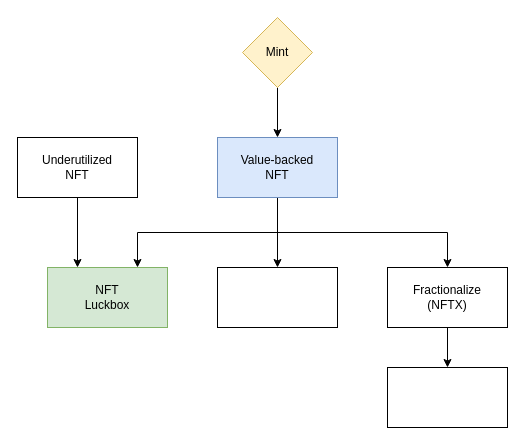
Some shapes in this 525 by 445 pixel diagram are drawn without their labels. The box of each missing label's shape, as (x1, y1, x2, y2) in pixels:
ERC-20 Based Exchange: (386, 366, 508, 428)
NFT Exchange (OpenSea): (216, 266, 338, 328)
